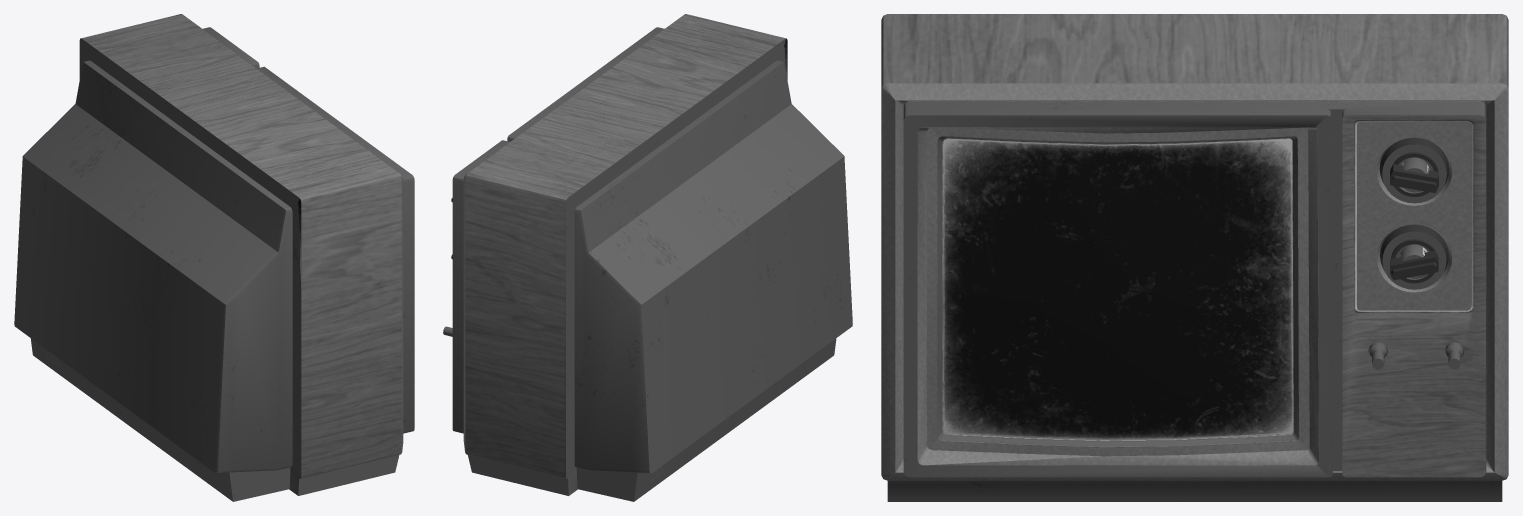
The model's file is television.obj.
3 renders of one model, left to right at view 1: azimuth 30°, elevation 25°; view 2: azimuth 150°, elevation 25°; view 3: azimuth 270°, elevation 25°, orthographic. The views are drawn at different scales.
Parts seen in each view (by area): view 1: Object_3; view 2: Object_3; view 3: Object_3.
Boxes of the visible parts, box(x1,y1,x2,y2) form: Object_3: box(14, 14, 414, 501); Object_3: box(443, 14, 852, 501); Object_3: box(881, 14, 1508, 501).
Bounding box in the file's own units: 2.69 × 3.56 × 4.8.
1 material, 1 textured.
